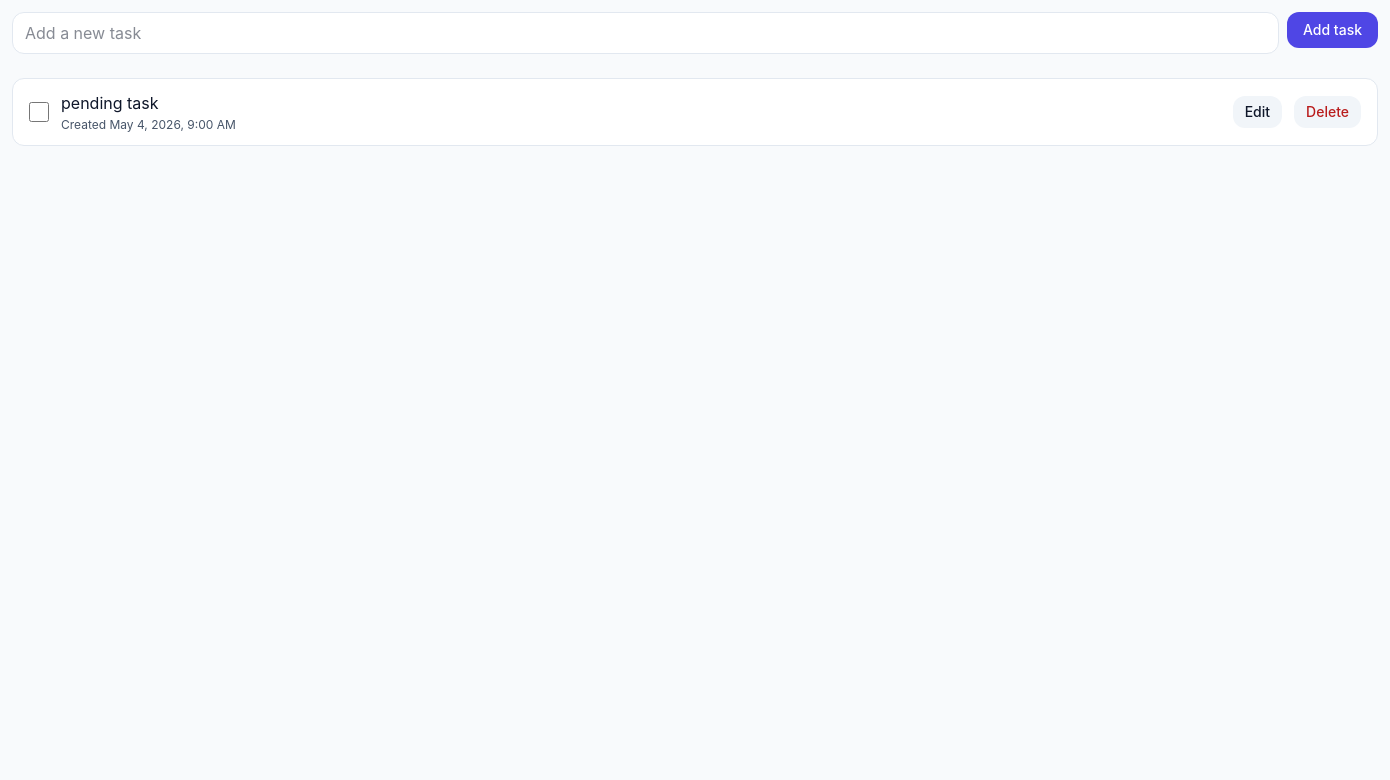
Scenario: <TaskRow /> behaviours (rendered through <TaskList />) › re-renders the row and surfaces a notification when delete 500s
The image size is (1390, 780).
Click the button named "delete \"pending task\"".
click(1328, 112)  # box [1294,96,1361,128]
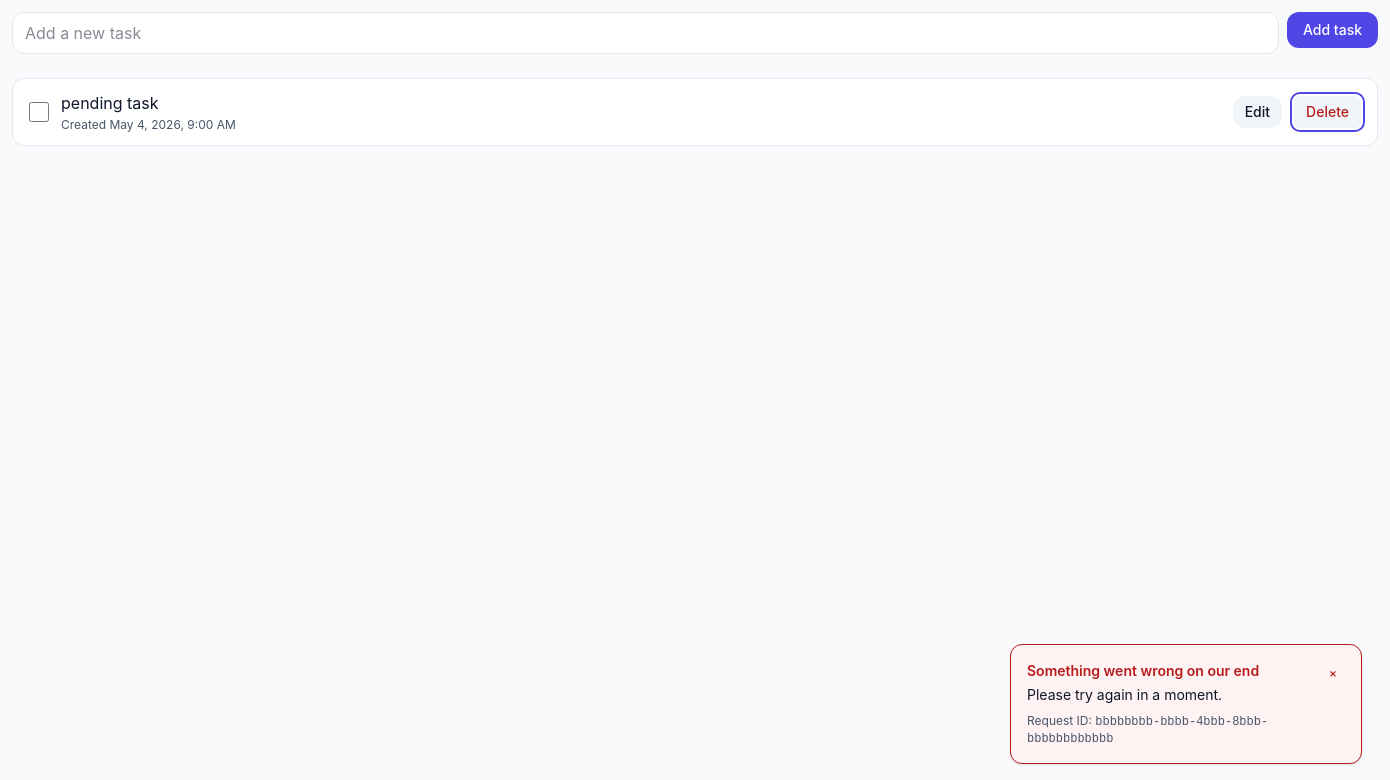
expect the text "pending task" is shown: met, box [61,93,158,113]
expect the text "Something went wrong on our end" is shown: met, box [1027,662,1259,679]
expect the text "bbbbbbbb-bbbb-4bbb-8bbb-bbbbbbbbbbbb" is shown: met, box [1027,715,1268,746]
